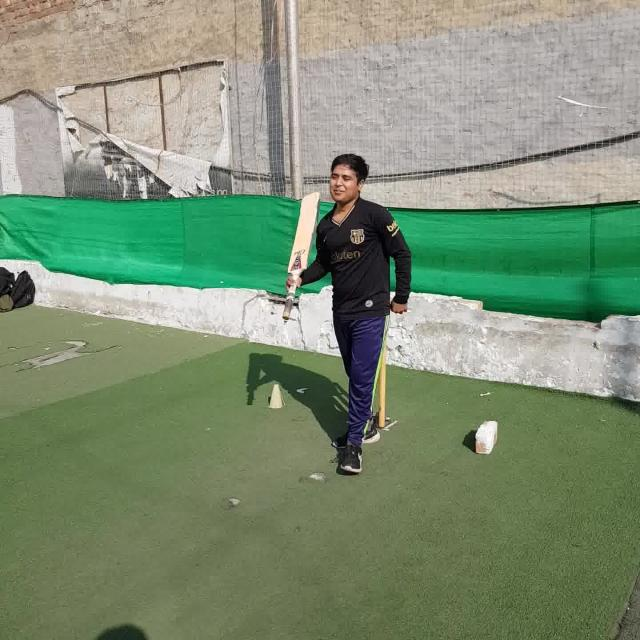bat: (282, 192, 321, 319)
